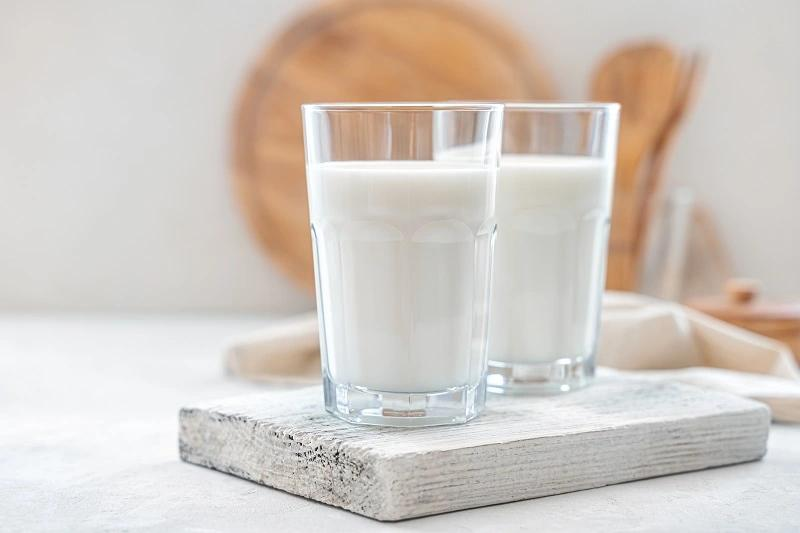produk_susu: (315, 109, 481, 413), (515, 112, 584, 388)
